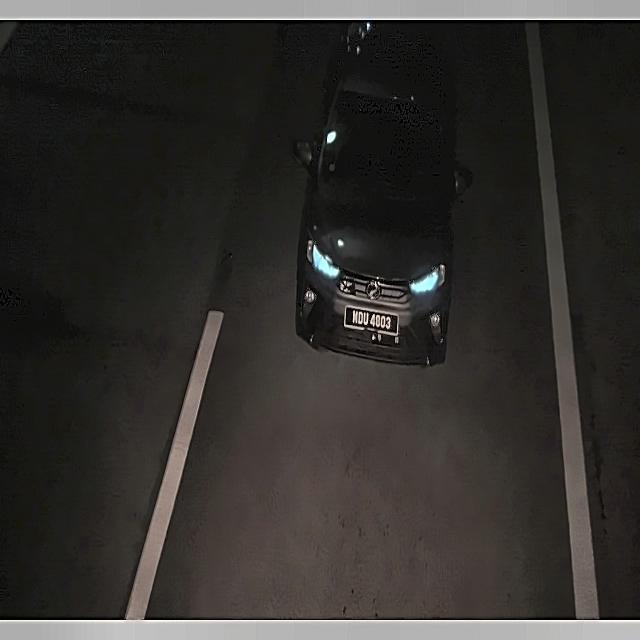car: (342, 302, 404, 345)
